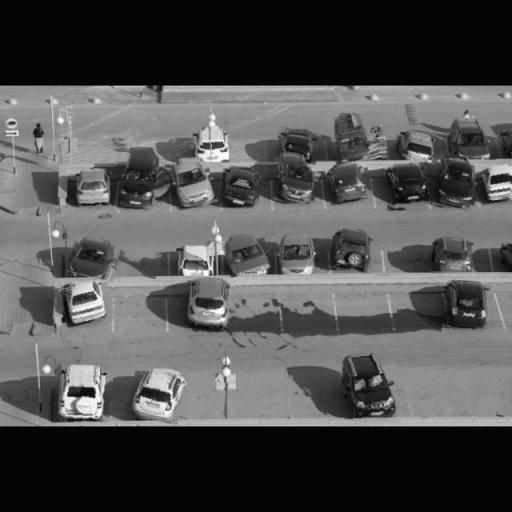busy: (340, 351, 399, 419), (128, 366, 188, 423), (55, 364, 113, 422), (114, 153, 164, 212), (184, 278, 235, 330), (329, 112, 380, 164), (444, 280, 494, 331), (60, 281, 114, 327), (434, 160, 481, 212), (170, 160, 216, 210), (447, 116, 497, 161), (69, 238, 120, 280), (330, 228, 376, 273), (386, 163, 434, 205), (218, 166, 264, 208), (224, 234, 270, 276), (70, 169, 118, 209), (327, 164, 372, 206), (276, 166, 320, 206), (430, 237, 477, 273), (277, 235, 320, 274), (276, 128, 320, 166), (394, 128, 443, 162), (193, 126, 236, 162), (477, 164, 512, 206), (176, 244, 216, 276), (498, 237, 512, 270), (499, 125, 512, 158)
free: (396, 293, 446, 331), (285, 376, 331, 414), (416, 382, 464, 416), (245, 376, 288, 413), (190, 380, 228, 415), (116, 248, 160, 277), (286, 299, 330, 328), (342, 299, 386, 325), (472, 385, 510, 415), (120, 295, 158, 324), (236, 300, 276, 326), (389, 246, 424, 268)
